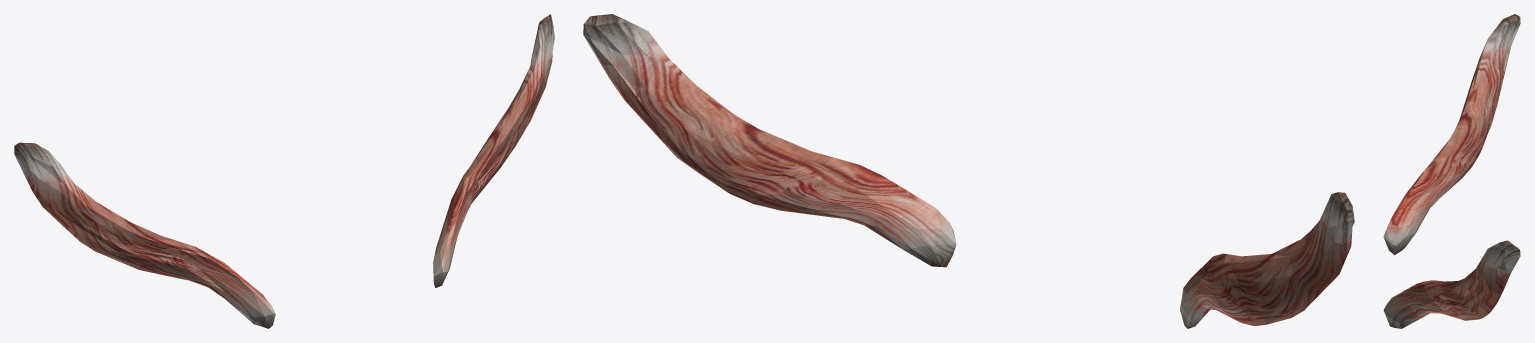
File: Zygomatic_Minor.obj
3 renders of one model, left to right at view 1: azimuth 30°, elevation 25°; view 2: azimuth 150°, elevation 25°; view 3: azimuth 270°, elevation 25°, orthographic. The views are drawn at different scales.
Parts seen in each view (by area): view 1: Musculos_Cabeza_1:Zygomatic_Minor1; view 2: Musculos_Cabeza_1:Zygomatic_Minor1; view 3: Musculos_Cabeza_1:Zygomatic_Minor1.
Boxes of the visible parts, <box> form: Musculos_Cabeza_1:Zygomatic_Minor1: <box>14,14,554,328</box>; Musculos_Cabeza_1:Zygomatic_Minor1: <box>583,14,1354,328</box>; Musculos_Cabeza_1:Zygomatic_Minor1: <box>1383,14,1520,328</box>.
Size of the model in its own units: 0.5012 by 0.1619 by 0.1241.
1 material, 1 textured.
